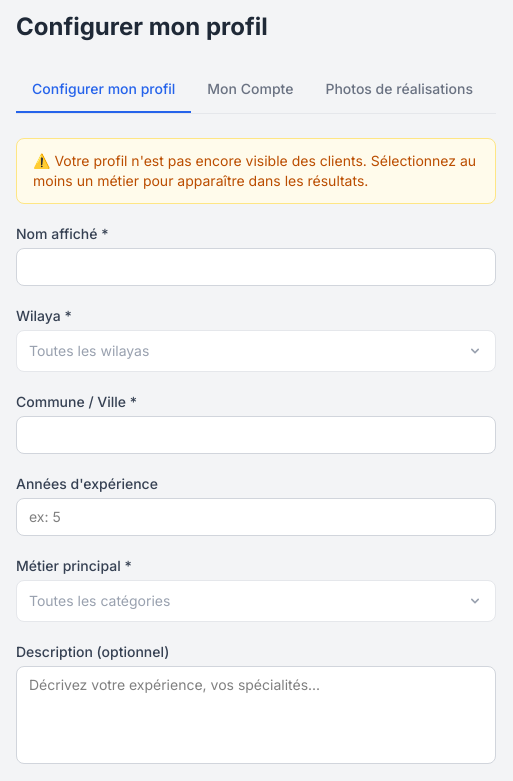
shows portfolio section with upload button
Click the tab "Photos de réalisations" at (399, 90), box [309,67,489,113]
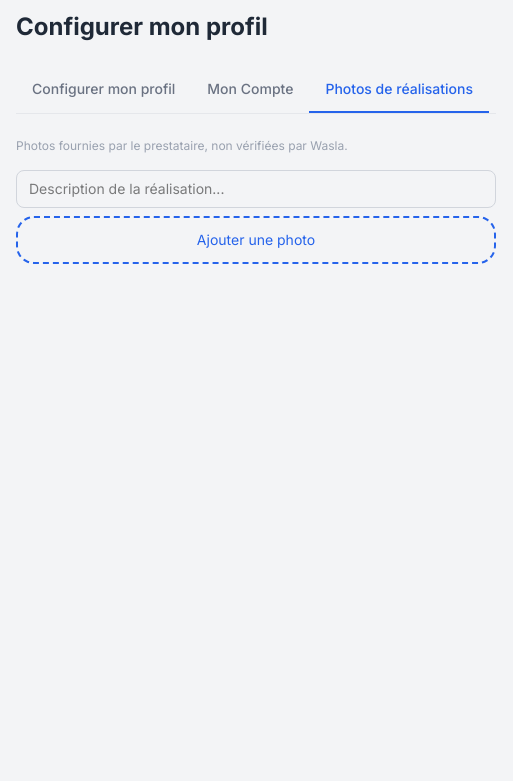
Check: the text "Ajouter une photo" is shown, box [197,230,315,250]
